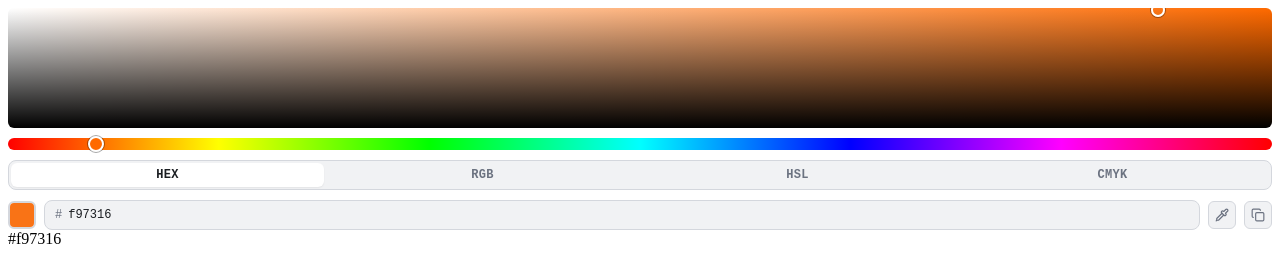
ColorPicker — alpha › expands 3-digit shorthand on blur (no alpha)
Replace the text in the field with placeholder "rrggbb" with "f80" at (628, 215), box [66,207,1189,223]
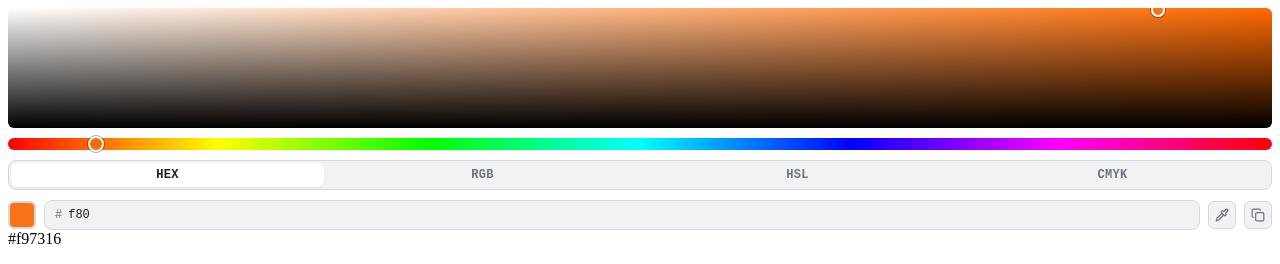
Leave the field with placeholder "rrggbb", box [66,207,1189,223]
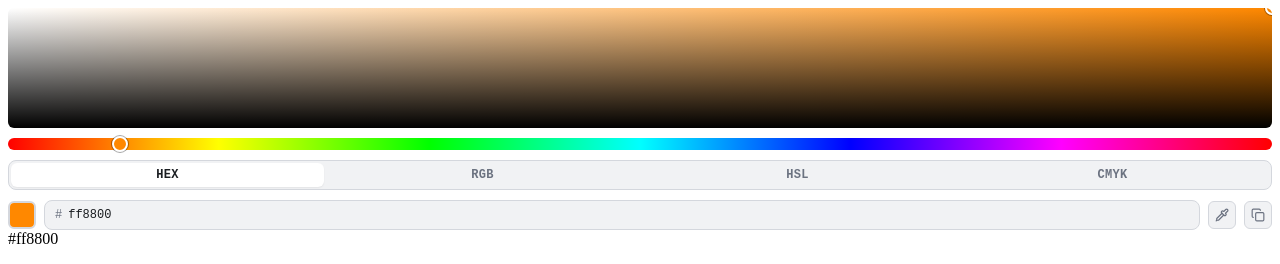
expect the text with test id "color" reads "#ff8800": met, box [8,230,58,247]
